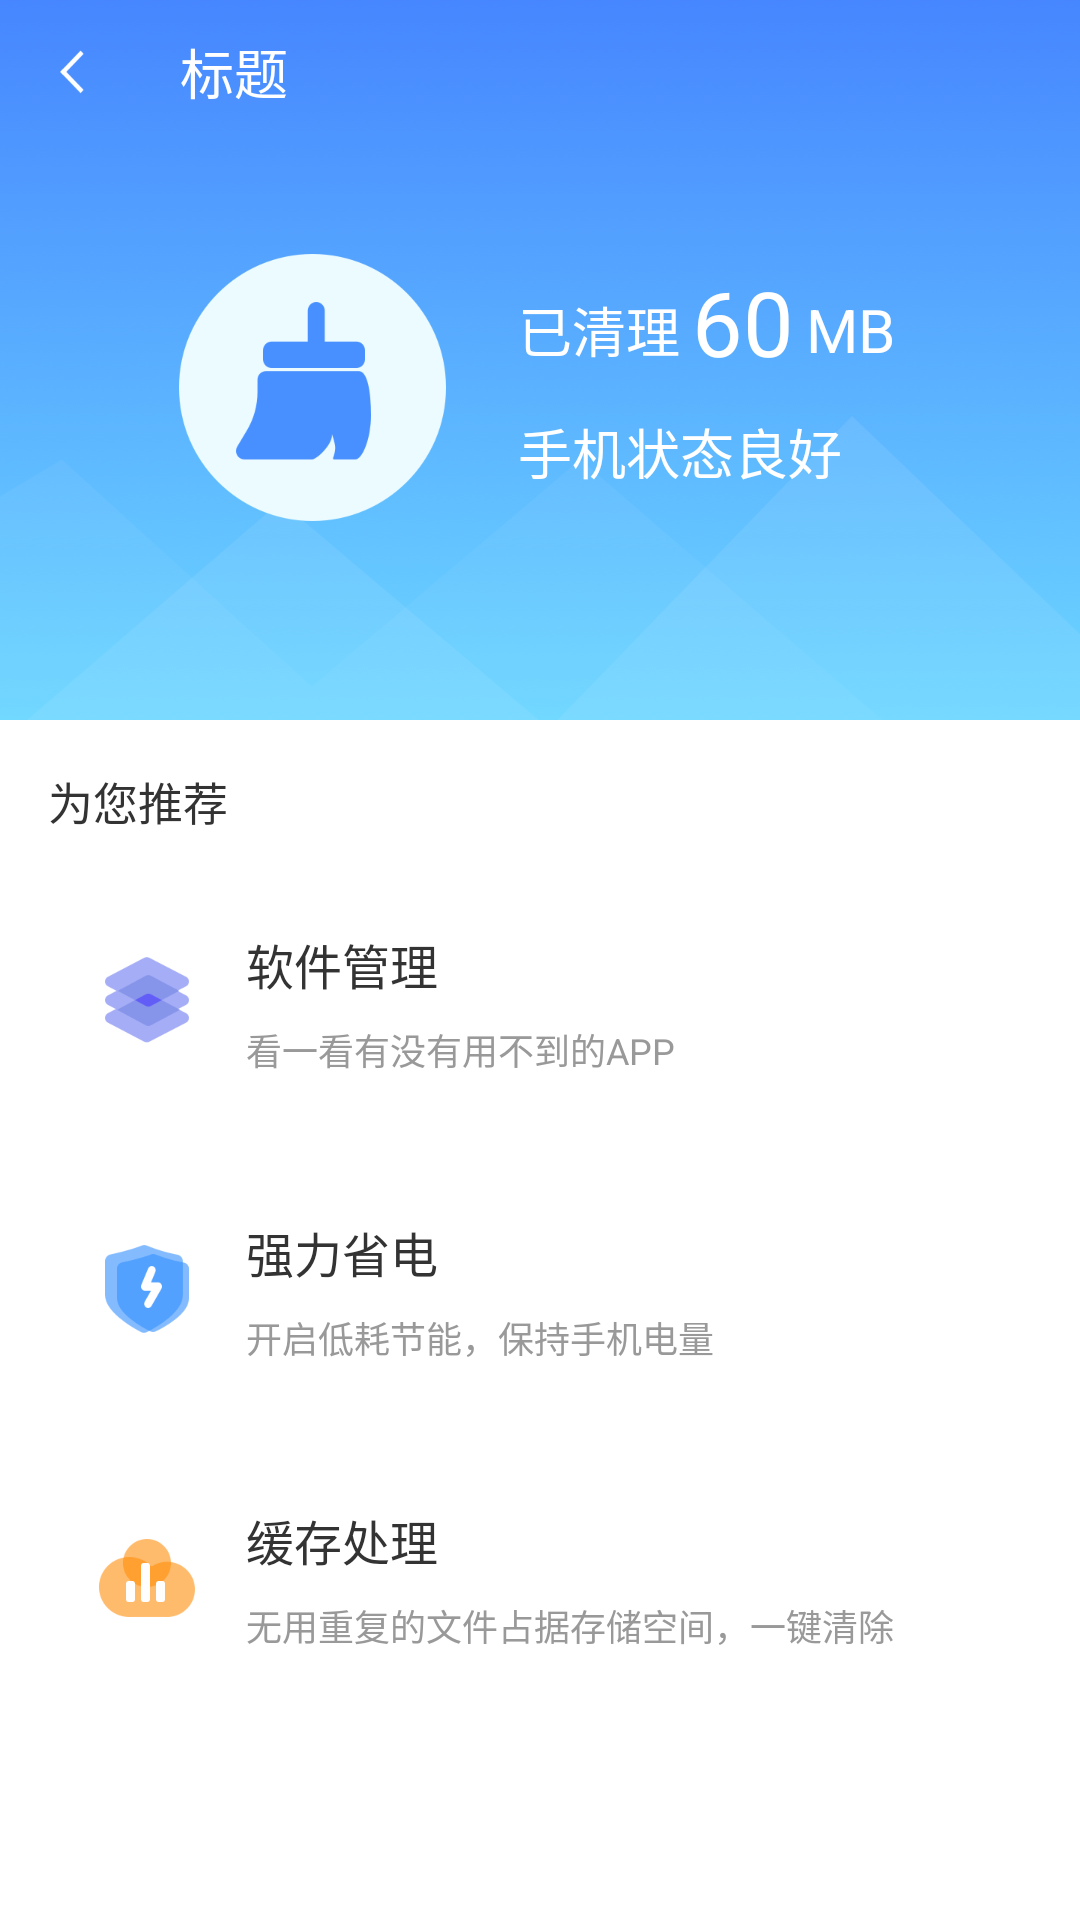

Icons on this 1080w x 1920h Android screen, each with the point to tap as (x=x, y=y):
back: (x=72, y=72)
clean: (x=312, y=387)
item saving: (x=147, y=1289)
